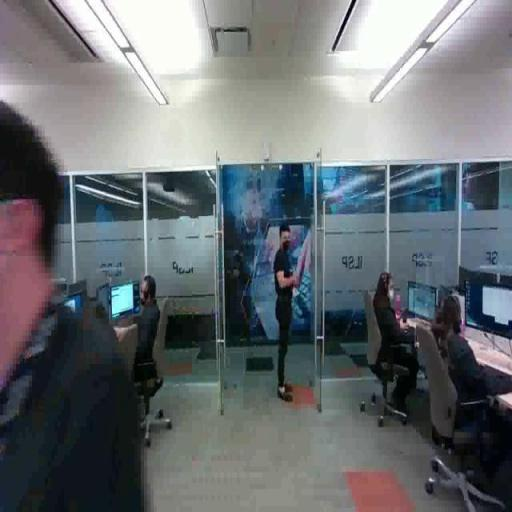person: (1, 101, 147, 512), (270, 223, 299, 407)
